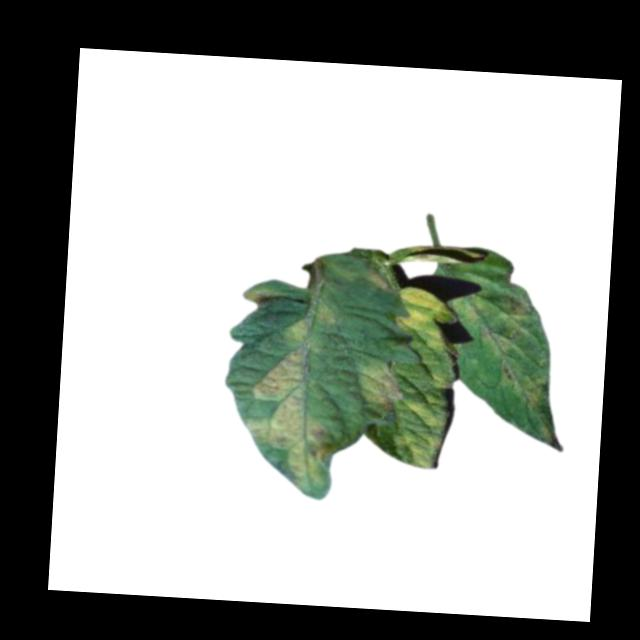Leaf_Mold: (448, 285, 574, 448), (241, 340, 342, 489), (392, 392, 449, 470), (394, 285, 458, 353), (284, 297, 340, 343), (352, 359, 402, 408), (241, 285, 272, 313)
